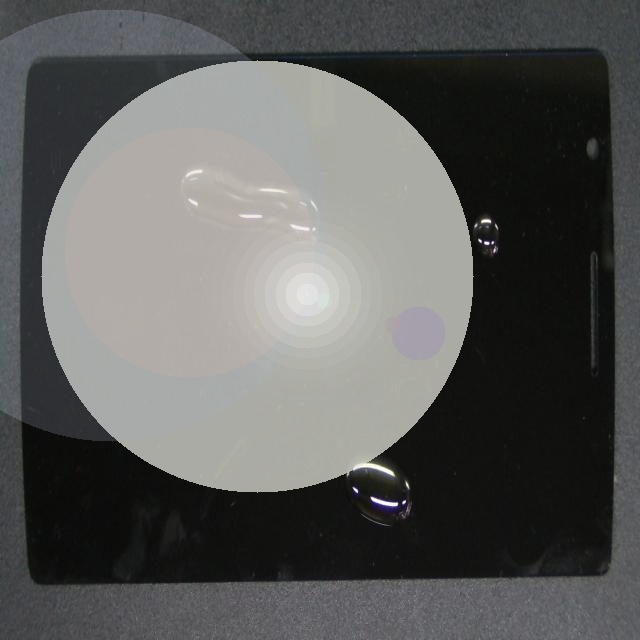oil: (200, 282, 616, 640), (257, 125, 640, 337), (61, 100, 317, 343)
